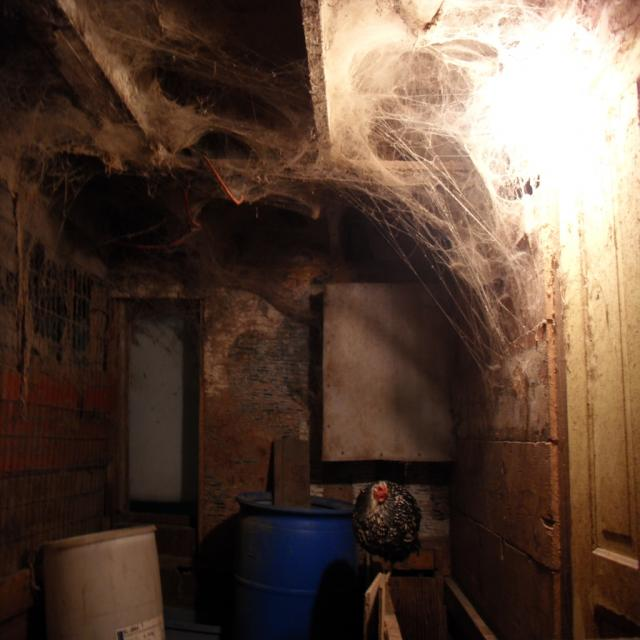Chicken: (351, 484, 417, 578)
